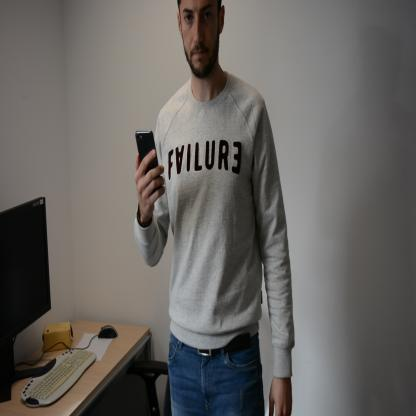smartphone: (135, 128, 162, 194)
